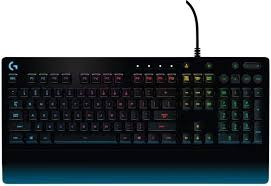keyboard: (4, 58, 270, 160)
